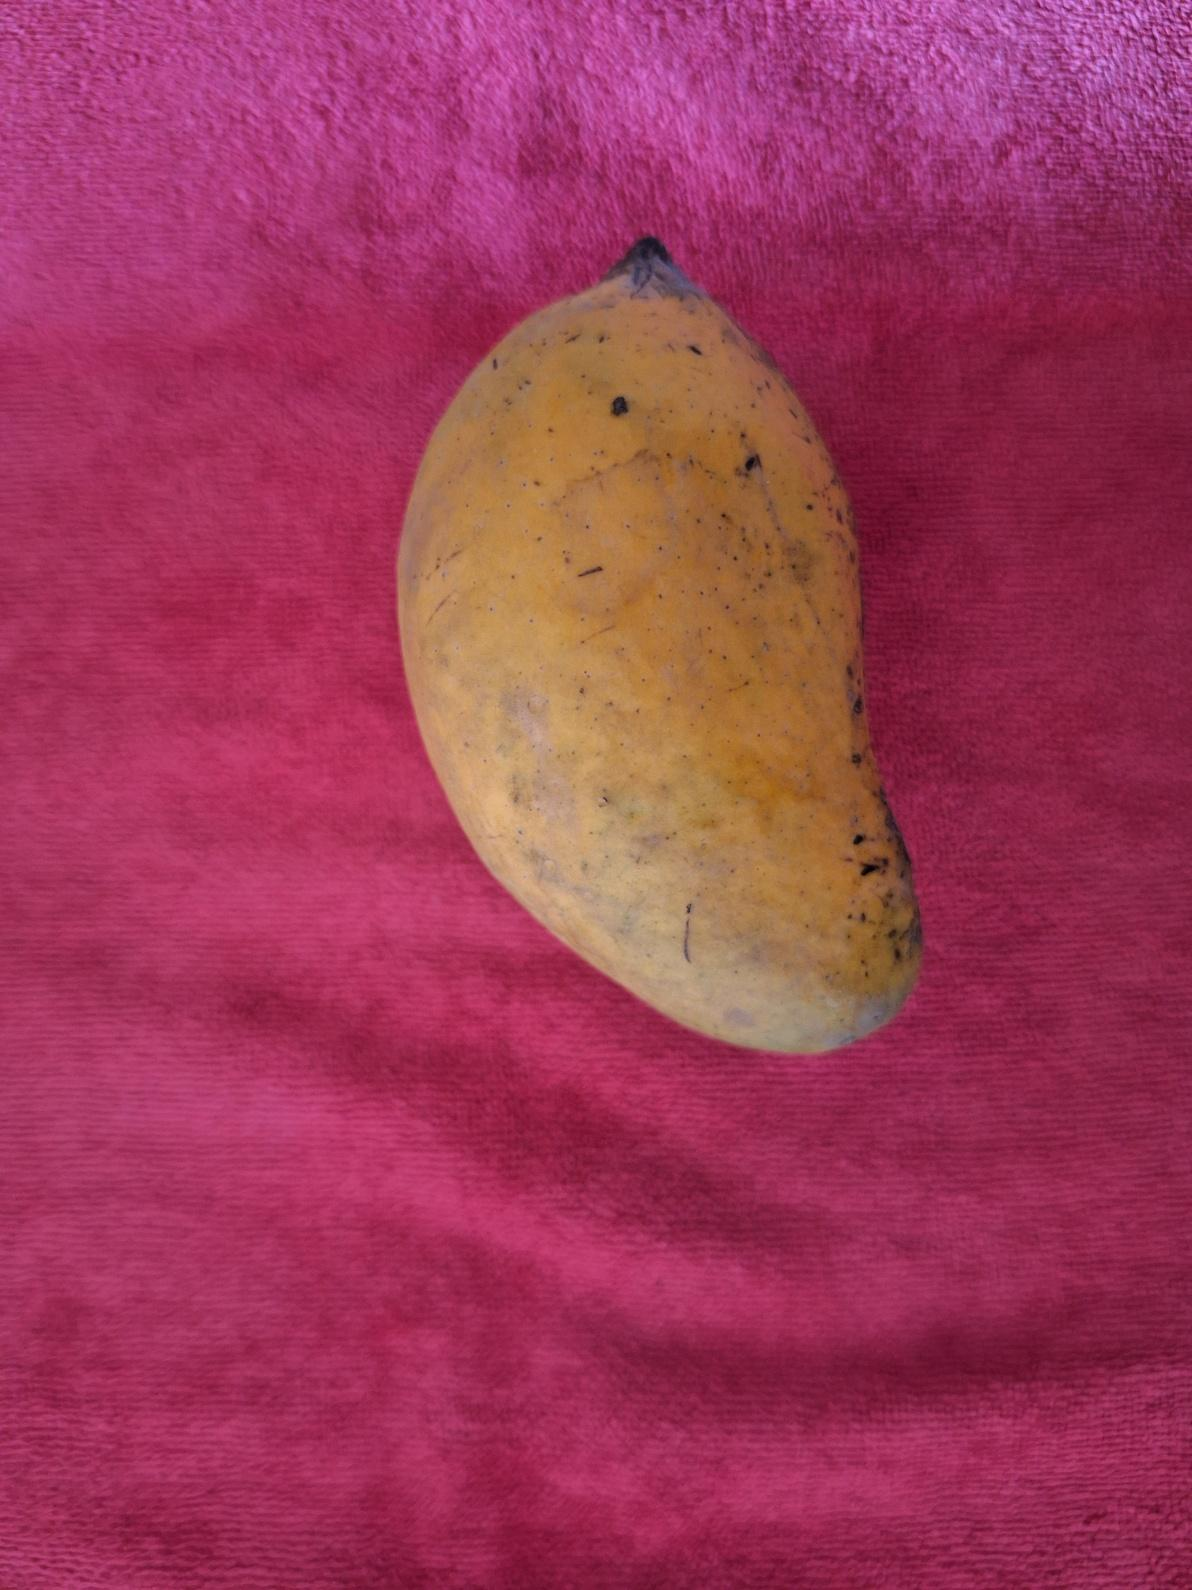mango: (394, 232, 924, 1055)
